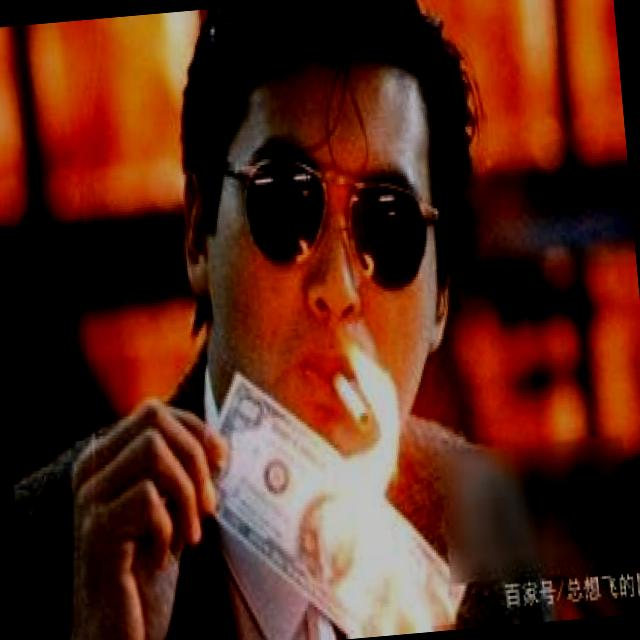cigarette: (332, 362, 372, 433)
